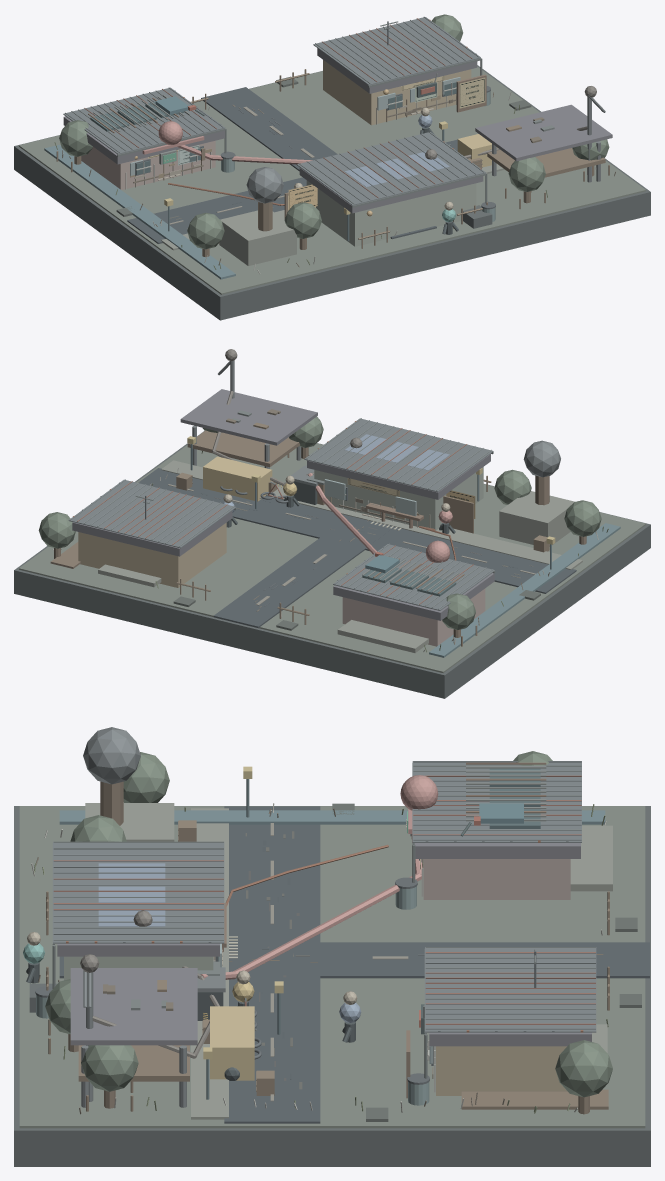
File: yudae_e_clinic_direct_detailed.glb
The picture shows the model from 3 angles, top to bottom: view 1: azimuth 30°, elevation 25°; view 2: azimuth 150°, elevation 25°; view 3: azimuth 270°, elevation 25°; orthographic projection. The views are drawn at different scales.
Parts seen in each view (by area): view 1: world; view 2: world; view 3: world.
Part boxes in pixels (bbox=[...]): world: bbox=[14, 14, 650, 320]; world: bbox=[14, 349, 650, 698]; world: bbox=[14, 727, 650, 1166].
Bounding box in the file's own units: 3.45 × 0.918 × 2.86.
Materials: 8 (8 with a texture image).
